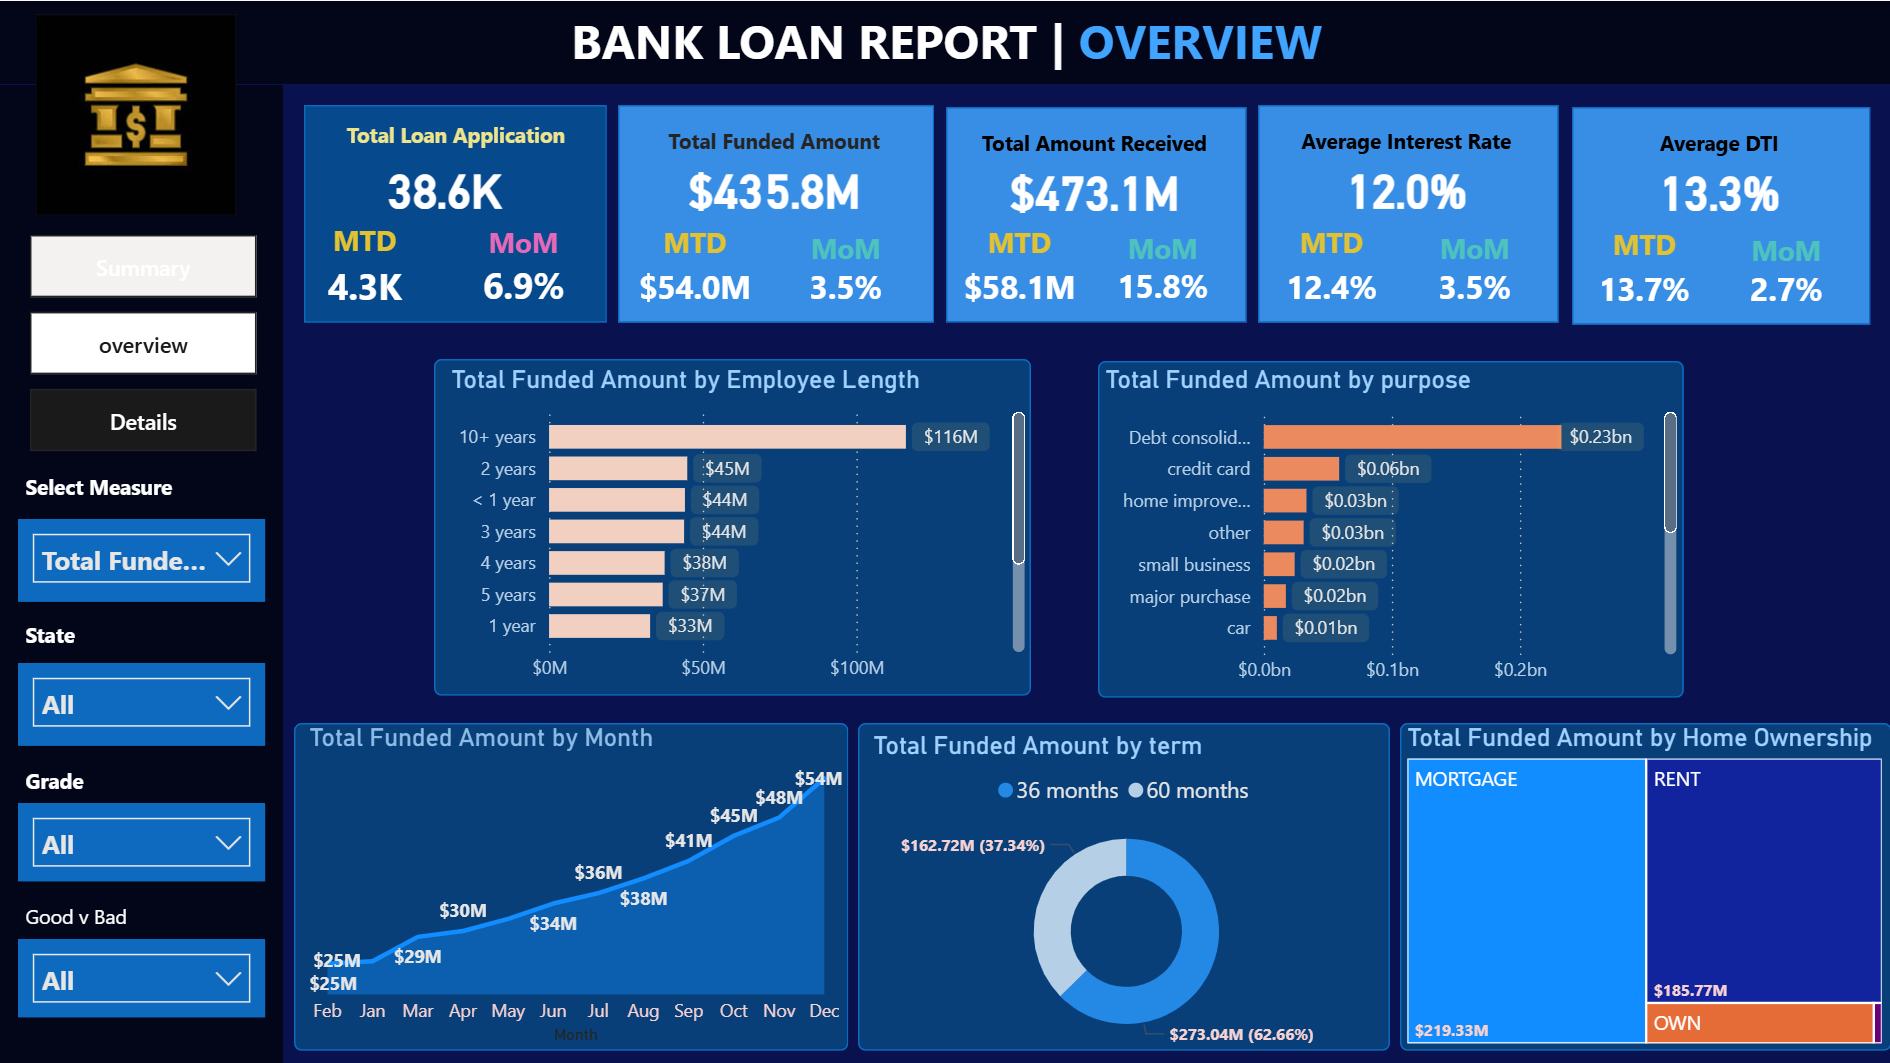

What the dashboard file says about the page in this screenshot:
{"tool":"powerbi","page":{"name":"overview","canvas":[1280,720],"ordinal":1},"visuals":[{"type":"shape","box":[0,56.1,192.6,664.3],"z":0},{"type":"shape","box":[0,0,1280,56.1],"z":1000},{"type":"shape","box":[200.2,488.3,374.6,221.4],"z":2000},{"type":"textbox","box":[381.8,0,555.9,55.4],"z":3000},{"type":"shape","box":[206.3,69.8,204.7,147.1],"z":4000},{"type":"card","fields":{"Values":["Bank_loan_data.TOTAL LOAN APPLICATION"]},"box":[192.6,104.6,216.9,42.5],"z":4000,"group":"g1"},{"type":"shape","box":[418.9,69.8,213.7,147.1],"z":5000,"group":"g2"},{"type":"shape","box":[851.7,69.8,203.2,147.1],"z":5000,"group":"g3"},{"type":"shape","box":[640.6,71.3,203.2,145.6],"z":5000,"group":"g4"},{"type":"shape","box":[1063.5,72.1,201.7,147.1],"z":5000,"group":"g5"},{"type":"group","id":"g1","title":"Group 1","box":[192.6,75.5,216.9,139.8],"z":5000},{"type":"textbox","box":[210.7,75.5,197.2,36.4],"z":5000,"group":"g1"},{"type":"group","id":"g2","title":"Group 2","box":[417.3,69.8,215.4,147.1],"z":6000},{"type":"card","fields":{"Values":["Bank_loan_data.Total Funded Amount"]},"box":[417.3,98.6,213.9,56.1],"z":6000,"group":"g2"},{"type":"card","fields":{"Values":["Bank_loan_data.Avg Intrest Rate"]},"box":[850.1,98.6,203.4,56.1],"z":6000,"group":"g3"},{"type":"card","fields":{"Values":["Bank_loan_data.Total Amount Received"]},"box":[639,99.8,203.4,55.5],"z":6000,"group":"g4"},{"type":"card","fields":{"Values":["Bank_loan_data.Average DTI"]},"box":[1061.9,100.9,201.9,56.1],"z":6000,"group":"g5"},{"type":"card","title":"MTD","fields":{"Values":["Bank_loan_data.MTD Loan"]},"box":[194.1,148.6,106.2,66.7],"z":6000,"group":"g1"},{"type":"group","id":"g3","title":"Group 3","box":[850.1,69.8,204.7,147.1],"z":6002,"group":"g7"},{"type":"group","id":"g4","title":"Group 3","box":[639,71.3,204.7,145.6],"z":6002,"group":"g6"},{"type":"group","id":"g5","title":"Group 3","box":[1061.9,72.1,203.2,147.1],"z":6002,"group":"g8"},{"type":"group","id":"g6","title":"Group 2","box":[639,71.3,204.7,145.6],"z":7000},{"type":"textbox","box":[418,79.3,213.7,35.2],"z":7000,"group":"g2"},{"type":"textbox","box":[850.7,79.3,203.2,35.2],"z":7000,"group":"g3"},{"type":"textbox","box":[639.6,80.7,203.2,34.8],"z":7000,"group":"g4"},{"type":"textbox","box":[1062.5,81.6,201.7,35.2],"z":7000,"group":"g5"},{"type":"card","title":"MoM","fields":{"Values":["Bank_loan_data.MoM Loan Application"]},"box":[301.8,150.1,104.6,62.2],"z":7000,"group":"g1"},{"type":"group","id":"g7","title":"Group 2","box":[850.1,69.8,204.7,147.1],"z":8000},{"type":"card","title":"MTD","fields":{"Values":["Bank_loan_data.MTD Funded Amount"]},"box":[423.4,150.2,95.5,65.2],"z":8000,"group":"g2"},{"type":"card","title":"MTD","fields":{"Values":["Bank_loan_data.MTD Amount Received"]},"box":[645.1,150.2,91,65.2],"z":8000,"group":"g4"},{"type":"card","title":"MTD","fields":{"Values":["Bank_loan_data.MTD Average Intrest"]},"box":[856.2,150.2,91,65.2],"z":8000,"group":"g3"},{"type":"card","title":"MTD","fields":{"Values":["Bank_loan_data.MTD Avg DTI"]},"box":[1068,152.5,89.5,65.2],"z":8000,"group":"g5"},{"type":"group","id":"g8","title":"Group 2","box":[1061.9,72.1,203.2,147.1],"z":9000},{"type":"card","title":"MoM","fields":{"Values":["Bank_loan_data.MoM Funded Amount"]},"box":[530.7,153.2,83.3,56.1],"z":9000,"group":"g2"},{"type":"card","title":"MoM","fields":{"Values":["Bank_loan_data.MoM Average Intres"]},"box":[957.9,153.2,79.2,56.1],"z":9000,"group":"g3"},{"type":"card","title":"MoM","fields":{"Values":["Bank_loan_data.MoM Amount Received"]},"box":[746.8,153.9,79.2,55.5],"z":9000,"group":"g4"},{"type":"card","title":"MoM","fields":{"Values":["Bank_loan_data.MoM Avg DTI"]},"box":[1168.9,155.5,78.6,56.1],"z":9000,"group":"g5"},{"type":"slicer","fields":{"Values":["Bank_loan_data.address_state"]},"box":[13.6,447.4,166.8,56.1],"z":10000,"group":"g9"},{"type":"slicer","fields":{"Values":["Bank_loan_data.Good v Bad Loan"]},"box":[13.6,634.2,166.8,52.8],"z":10000},{"type":"textbox","box":[13.6,414,138,54.6],"z":11000,"group":"g9"},{"type":"textbox","box":[13.6,603.6,179,37.9],"z":11000},{"type":"slicer","fields":{"Values":["Select Measure.Select Measure"]},"box":[13.6,350.3,166.8,56.1],"z":12000},{"type":"slicer","fields":{"Values":["Bank_loan_data.grade"]},"box":[13.6,541.4,166.8,53.1],"z":13000},{"type":"areaChart","fields":{"Y":["Bank_loan_data.Total Amount Received"],"Category":["Date Table.Month"]},"box":[204.7,488.3,370,221.4],"z":14000},{"type":"textbox","box":[13.6,512.6,110.7,28.8],"z":15000},{"type":"group","id":"g9","title":"Group 4","box":[13.6,414,166.8,89.5],"z":16000},{"type":"textbox","box":[13.6,313.9,119.8,40.9],"z":17000},{"type":"shape","box":[580.9,488.3,359.4,221.4],"z":18000},{"type":"donutChart","fields":{"Y":["Bank_loan_data.Total Amount Received"],"Category":["Bank_loan_data.term"]},"box":[586.9,492.9,351.8,221.4],"z":19000},{"type":"shape","box":[295.1,242.2,403.4,227.5],"z":20000},{"type":"barChart","fields":{"Y":["Bank_loan_data.Total Amount Received"],"Category":["Bank_loan_data.emp_length"]},"box":[301.8,245.7,397.3,222.9],"z":21000},{"type":"shape","box":[743.1,242.7,395.8,227.5],"z":22000},{"type":"barChart","fields":{"Y":["Bank_loan_data.Total Amount Received"],"Category":["Bank_loan_data.purpose"]},"box":[743.1,245.7,395.8,224.5],"z":23000},{"type":"shape","box":[947.9,488.3,332.1,221.4],"z":24000},{"type":"treemap","fields":{"Values":["Bank_loan_data.Total Amount Received"],"Group":["Bank_loan_data.home_ownership"]},"box":[947.9,488.3,330.6,221.4],"z":25000},{"type":"pageNavigator","box":[21.2,157.7,153.2,147.1],"z":25001},{"type":"image","box":[0,4.5,186.5,145.6],"z":25002}]}

Visuals, with their boxes in screenshot pixels (x1, y1, x2, y2), scaled from the page's 1280x720 canvas onto the 1890x1063 screenshot:
shape: 0/83/284/1062
shape: 0/0/1889/83
shape: 296/721/849/1048
textbox: 564/0/1385/82
shape: 305/103/607/320
card - Bank_loan_data.TOTAL LOAN APPLICATION: 284/154/605/217
shape: 619/103/934/320
shape: 1258/103/1558/320
shape: 946/105/1246/320
shape: 1570/106/1868/324
"Group 1" group: 284/111/605/318
textbox: 311/111/602/165
"Group 2" group: 616/103/934/320
card - Bank_loan_data.Total Funded Amount: 616/146/932/228
card - Bank_loan_data.Avg Intrest Rate: 1255/146/1556/228
card - Bank_loan_data.Total Amount Received: 944/147/1244/229
card - Bank_loan_data.Average DTI: 1568/149/1866/232
"MTD" card: 287/219/443/318
"Group 3" group: 1255/103/1557/320
"Group 3" group: 944/105/1246/320
"Group 3" group: 1568/106/1868/324
"Group 2" group: 944/105/1246/320
textbox: 617/117/933/169
textbox: 1256/117/1556/169
textbox: 944/119/1244/171
textbox: 1569/120/1867/172
"MoM" card: 446/222/600/313
"Group 2" group: 1255/103/1557/320
"MTD" card: 625/222/766/318
"MTD" card: 953/222/1087/318
"MTD" card: 1264/222/1399/318
"MTD" card: 1577/225/1709/321
"Group 2" group: 1568/106/1868/324
"MoM" card: 784/226/907/309
"MoM" card: 1414/226/1531/309
"MoM" card: 1103/227/1220/309
"MoM" card: 1726/230/1842/312
slicer - Bank_loan_data.address_state: 20/661/266/743
slicer - Bank_loan_data.Good v Bad Loan: 20/936/266/1014
textbox: 20/611/224/692
textbox: 20/891/284/947
slicer - Select Measure.Select Measure: 20/517/266/600
slicer - Bank_loan_data.grade: 20/799/266/878
areaChart - Bank_loan_data.Total Amount Received x Date Table.Month: 302/721/849/1048
textbox: 20/757/184/799
"Group 4" group: 20/611/266/743
textbox: 20/463/197/524
shape: 858/721/1388/1048
donutChart - Bank_loan_data.Total Amount Received x Bank_loan_data.term: 867/728/1386/1055
shape: 436/358/1031/693
barChart - Bank_loan_data.Total Amount Received x Bank_loan_data.emp_length: 446/363/1032/692
shape: 1097/358/1682/694
barChart - Bank_loan_data.Total Amount Received x Bank_loan_data.purpose: 1097/363/1682/694
shape: 1400/721/1889/1048
treemap - Bank_loan_data.Total Amount Received x Bank_loan_data.home_ownership: 1400/721/1888/1048
pageNavigator: 31/233/258/450
image: 0/7/275/222
